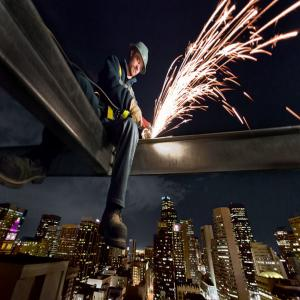blue: (129, 43, 149, 78)
